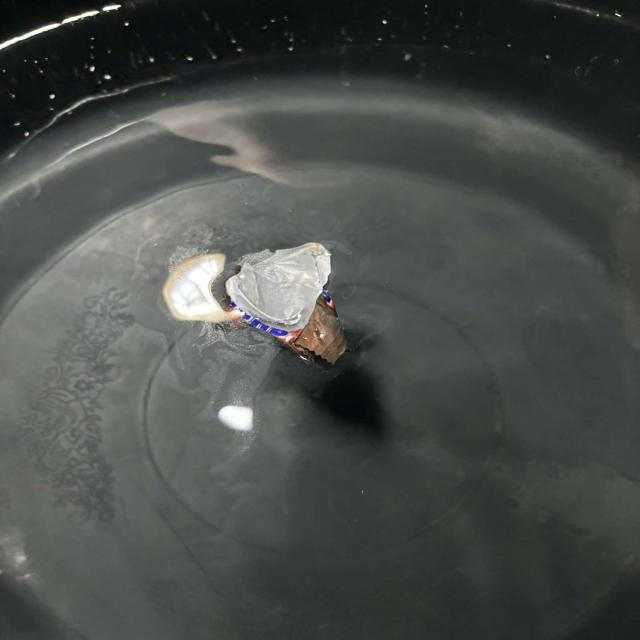Plastic Wrapper: (206, 232, 366, 382)
